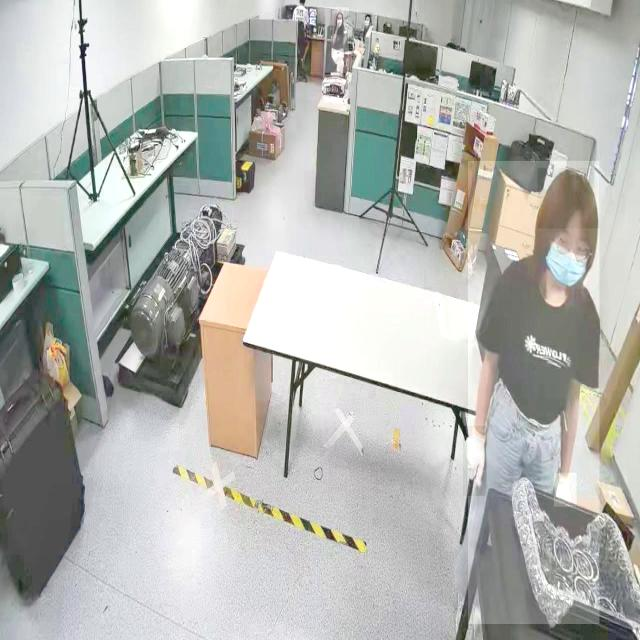face_mask: (542, 233, 586, 289), (334, 13, 342, 35), (365, 12, 373, 28)
hand_glove: (462, 426, 487, 497), (554, 473, 576, 507)
head_nohelmet: (537, 168, 600, 229), (364, 12, 372, 18), (336, 10, 344, 15)
person: (468, 161, 600, 625), (324, 7, 349, 74)
